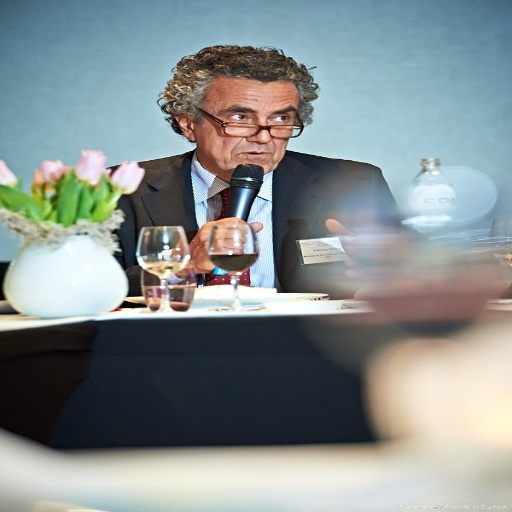hand: (325, 215, 400, 281), (182, 213, 254, 258)
